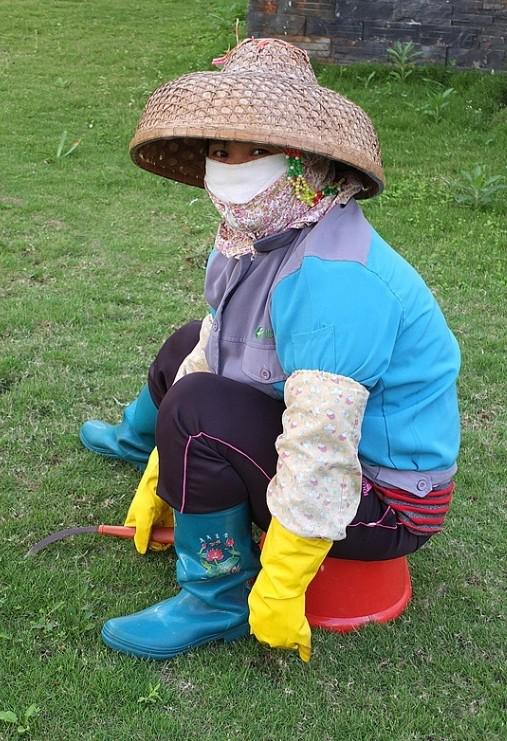OK: (207, 135, 301, 225)
